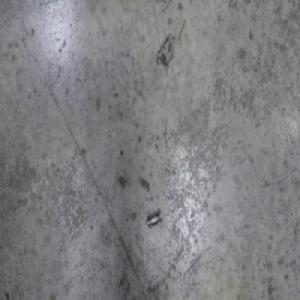Bolt: (146, 209, 162, 229)
